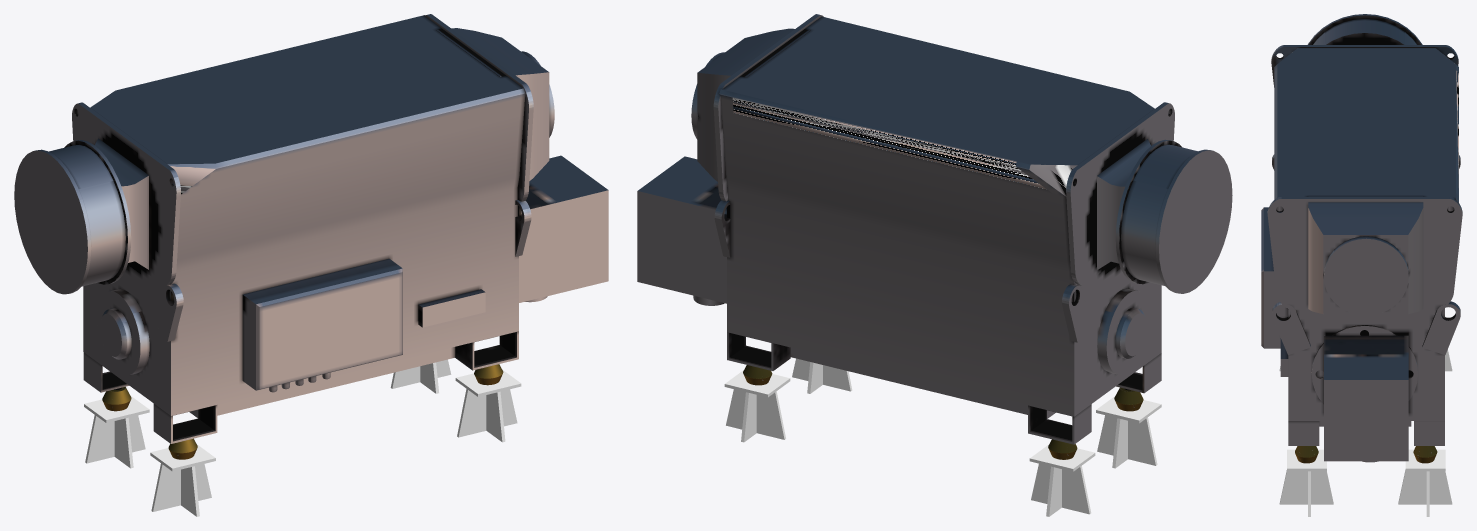
File: houzhuji1.gltf
3 renders of one model, left to right at view 1: azimuth 30°, elevation 25°; view 2: azimuth 150°, elevation 25°; view 3: azimuth 270°, elevation 25°, orthographic. The views are drawn at different scales.
Parts seen in each view (by area): view 1: 底, 后主机; view 2: 底, 后主机; view 3: 底, 后主机.
Part boxes in pixels (x1,y1,x2,y2): 底: [14, 14, 608, 443]; 后主机: [84, 359, 521, 516]; 底: [637, 14, 1232, 444]; 后主机: [724, 358, 1161, 516]; 底: [1261, 14, 1462, 462]; 后主机: [1279, 316, 1452, 516].
Size of the model in its own units: 13.28 by 8.36 by 4.84.
Materials: 4 (2 with a texture image).
